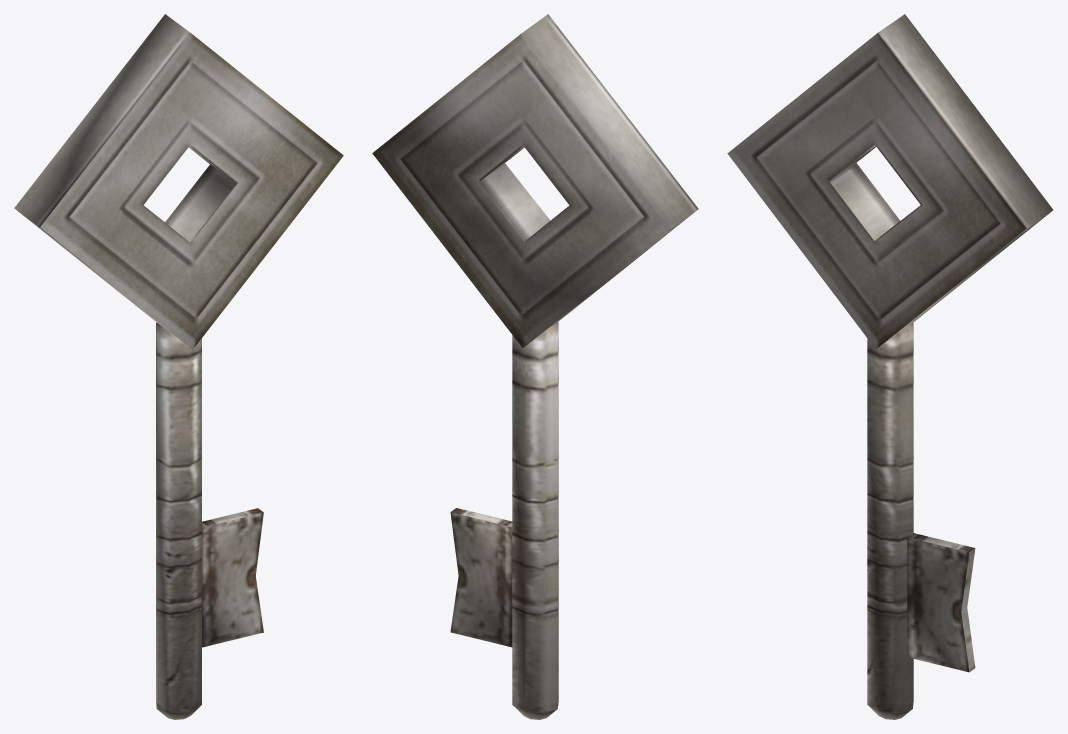
File: key.fbx
3 renders of one model, left to right at view 1: azimuth 30°, elevation 25°; view 2: azimuth 150°, elevation 25°; view 3: azimuth 330°, elevation 25°, orthographic.
Parts seen in each view (by area): view 1: key; view 2: key; view 3: key.
Boxes of the visible parts, left/top/right/bottom form: key: left=14, top=14, right=343, bottom=719; key: left=372, top=14, right=698, bottom=719; key: left=727, top=14, right=1053, bottom=719.
Bounding box in the file's own units: 11.67 × 25.53 × 1.94.
